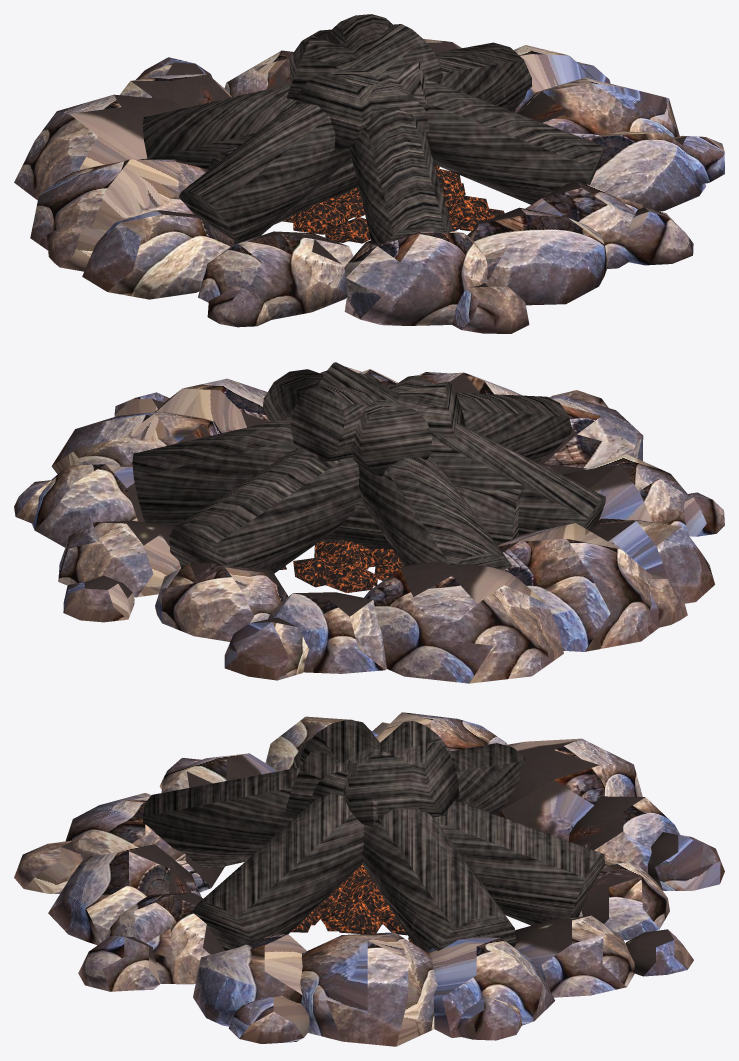
File: campfire.glb
3 views of the same model, one above another, from view 1: azimuth 30°, elevation 25°; view 2: azimuth 150°, elevation 25°; view 3: azimuth 270°, elevation 25° (orthographic). The views are drawn at different scales.
Parts seen in each view (by area): view 1: campfire; view 2: campfire; view 3: campfire.
Part boxes in pixels (x1,y1,x2,y2): campfire: (14, 14, 724, 333); campfire: (14, 362, 724, 683); campfire: (14, 712, 724, 1046).
Size of the model in its own units: 1.28 by 0.3351 by 1.27.
3 materials, 3 textured.
